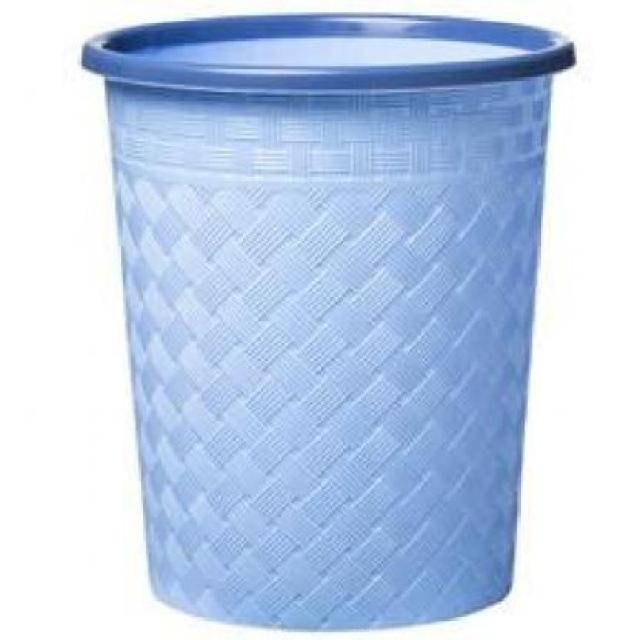dustbin: (75, 8, 581, 632)
